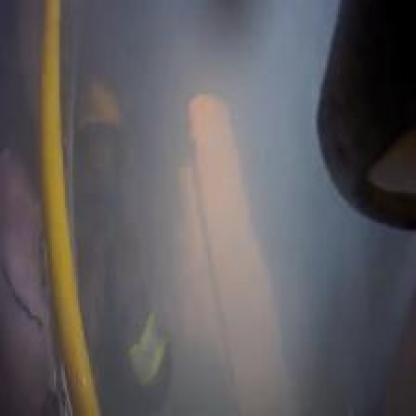other: (21, 18, 109, 402)
